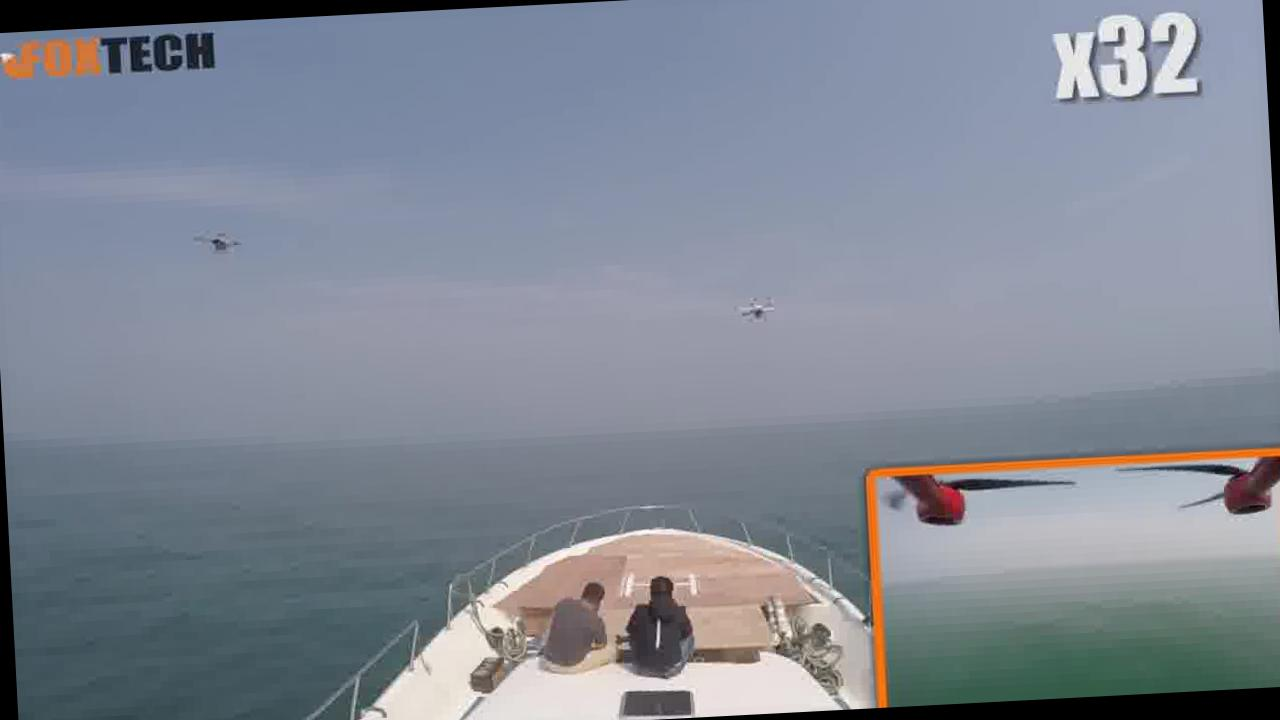drone: (190, 216, 253, 263), (730, 287, 776, 334)
